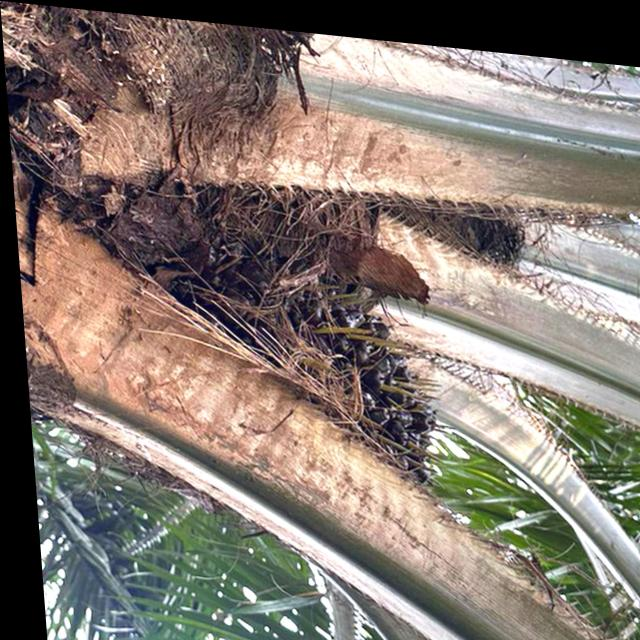ripe: (179, 262, 437, 461)
